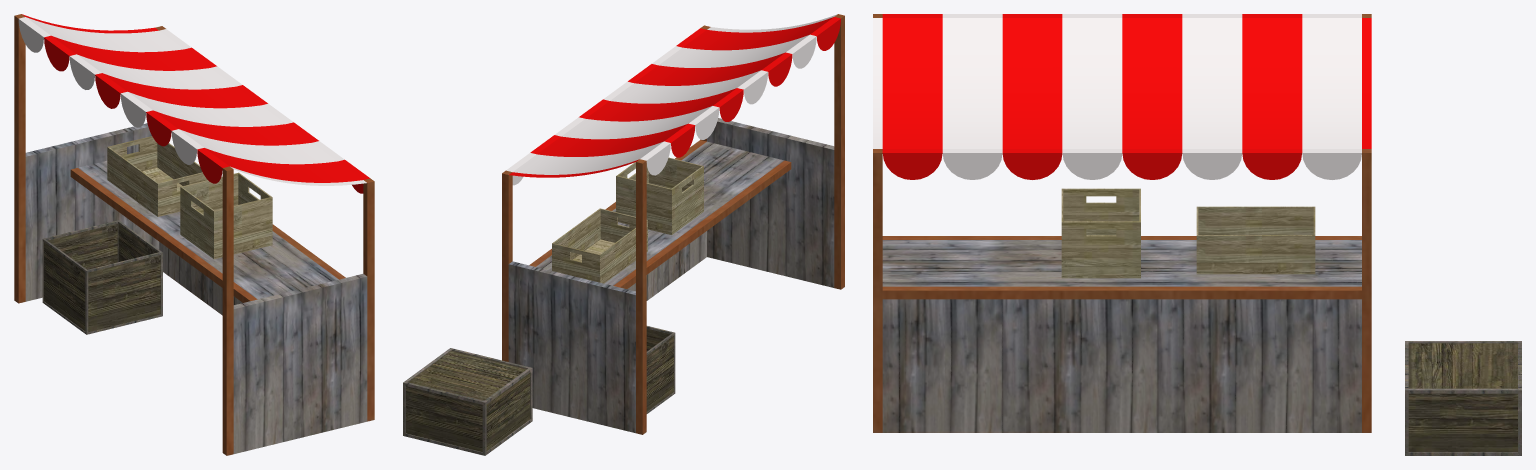
Rendered from market.dae.
The picture shows the model from 3 angles, left to right: view 1: azimuth 30°, elevation 25°; view 2: azimuth 150°, elevation 25°; view 3: azimuth 270°, elevation 25°; orthographic projection. The views are drawn at different scales.
Visible parts, largest first — view 1: Model; view 2: Model; view 3: Model.
Boxes of the visible parts, <box> form: Model: <box>14,14,374,455</box>; Model: <box>403,14,844,455</box>; Model: <box>873,14,1521,455</box>.
Size of the model in its own units: 1.5 by 3.82 by 2.17.
4 materials, 1 textured.
